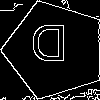D: (30, 25, 68, 71)
